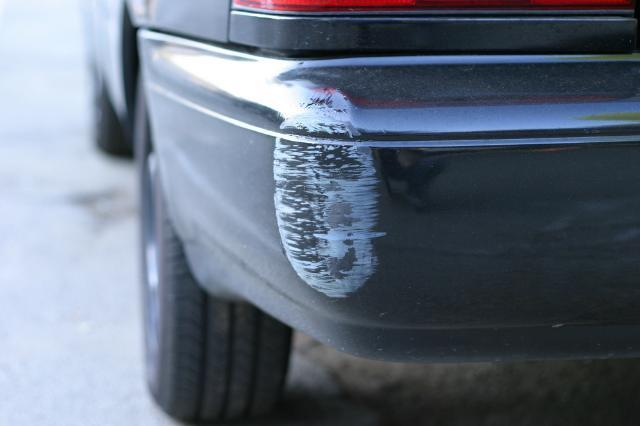Bumper: (176, 61, 639, 329)
